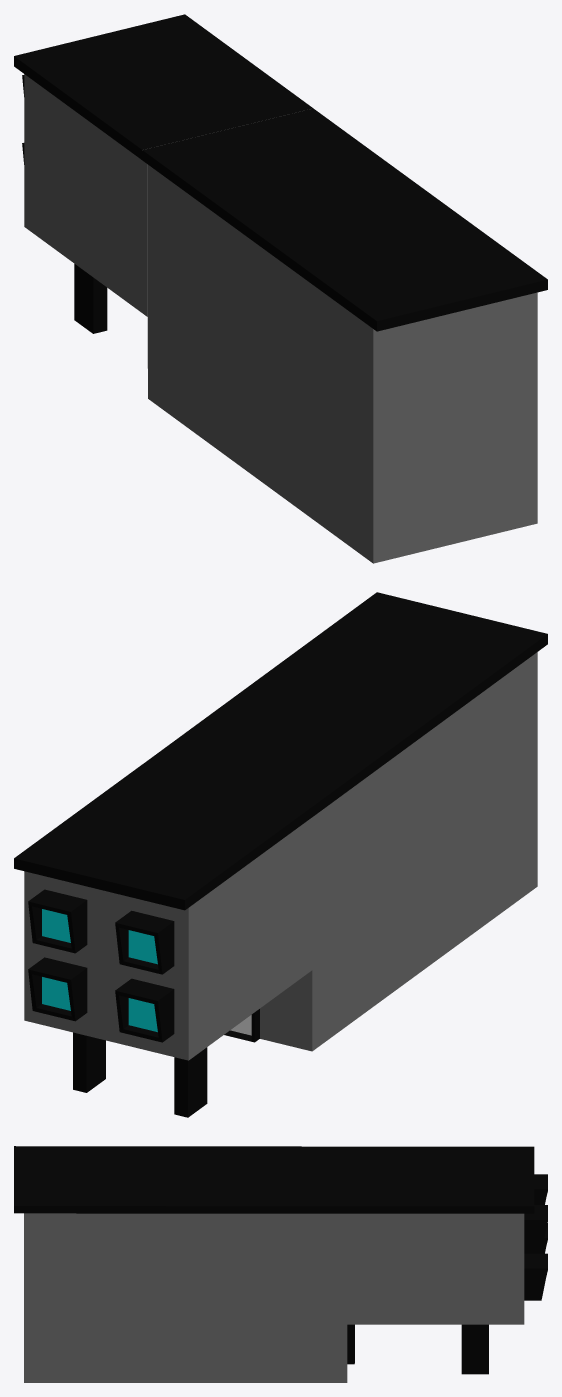
File: Building01.obj
3 renders of one model, top to bottom at view 1: azimuth 30°, elevation 25°; view 2: azimuth 150°, elevation 25°; view 3: azimuth 270°, elevation 25°, orthographic. The views are drawn at different scales.
Visible parts, largest first — view 1: Building01; view 2: Building01; view 3: Building01.
Boxes of the visible parts, bbox=[...] form: Building01: bbox=[14, 14, 547, 563]; Building01: bbox=[14, 592, 547, 1117]; Building01: bbox=[14, 1146, 547, 1382].
Bounding box in the file's own units: 3.99 × 5.54 × 15.05.
